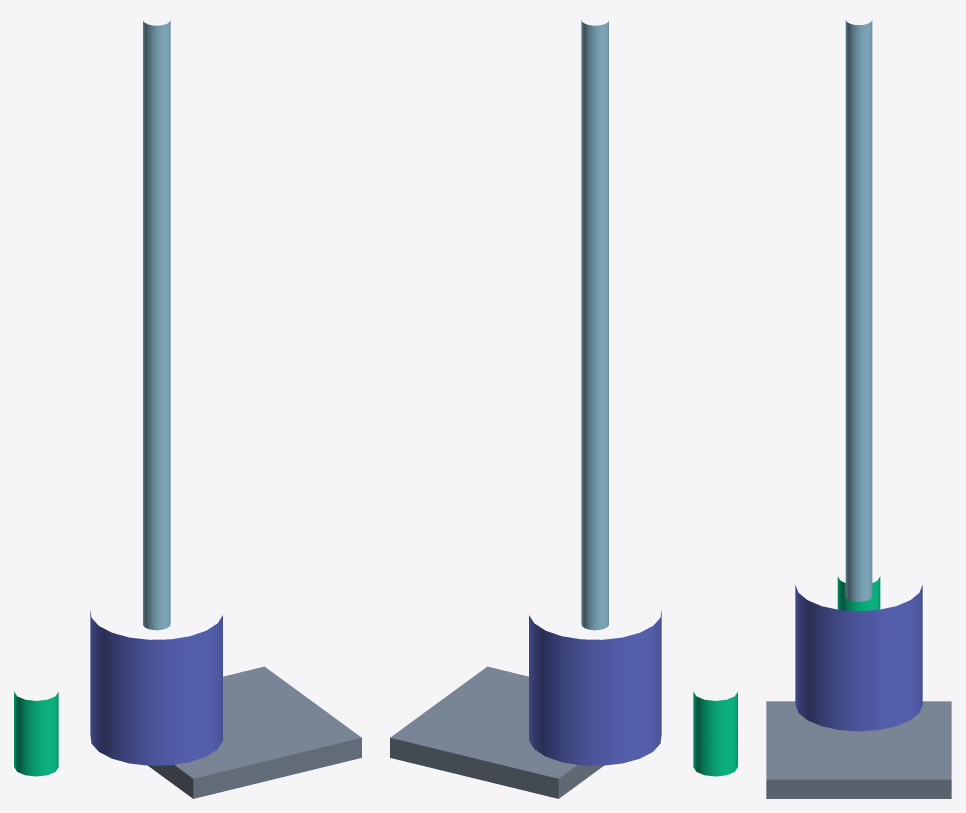
The model's file is water_hardness_edta_titration.glb.
3 views of the same model, side by side, from view 1: azimuth 30°, elevation 25°; view 2: azimuth 150°, elevation 25°; view 3: azimuth 270°, elevation 25° (orthographic). The views are drawn at different scales.
Parts seen in each view (by area): view 1: EDTASolutionFilledBurette, EriochromeBlackTIndicatorFlask, HeavyLaboratoryRetortBase, BufferSolutionPh10Dispenser; view 2: EDTASolutionFilledBurette, EriochromeBlackTIndicatorFlask, HeavyLaboratoryRetortBase, BufferSolutionPh10Dispenser; view 3: EDTASolutionFilledBurette, EriochromeBlackTIndicatorFlask, HeavyLaboratoryRetortBase, BufferSolutionPh10Dispenser.
Part boxes in pixels (box(x1,y1,x2,y2)): EDTASolutionFilledBurette: box(143, 19, 170, 630); EriochromeBlackTIndicatorFlask: box(90, 610, 222, 765); HeavyLaboratoryRetortBase: box(148, 666, 361, 798); BufferSolutionPh10Dispenser: box(14, 692, 58, 776); EDTASolutionFilledBurette: box(581, 19, 608, 630); EriochromeBlackTIndicatorFlask: box(529, 610, 661, 765); HeavyLaboratoryRetortBase: box(390, 666, 603, 798); BufferSolutionPh10Dispenser: box(693, 692, 737, 776); EDTASolutionFilledBurette: box(845, 20, 872, 601); EriochromeBlackTIndicatorFlask: box(795, 585, 922, 731); HeavyLaboratoryRetortBase: box(766, 701, 951, 798); BufferSolutionPh10Dispenser: box(837, 576, 880, 611).
Size of the model in its own units: 0.615 by 1.47 by 0.35.
